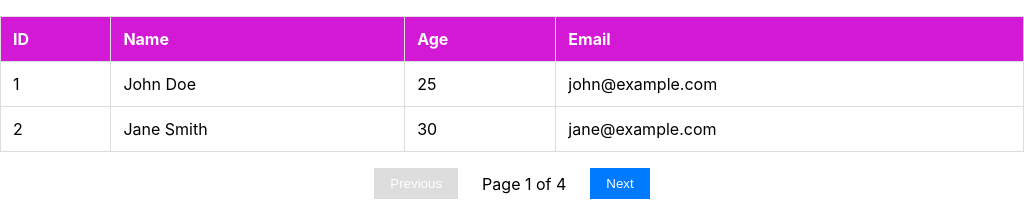
Scenario: handles pagination correctly
This screenshot has width=1024, height=216.
Check: the text "John Doe" is shown, box [111,62,405,106]
Check: the text "Jane Smith" is shown, box [111,106,405,152]
Click the button "Next".
click(620, 184)  # box [590,168,650,199]
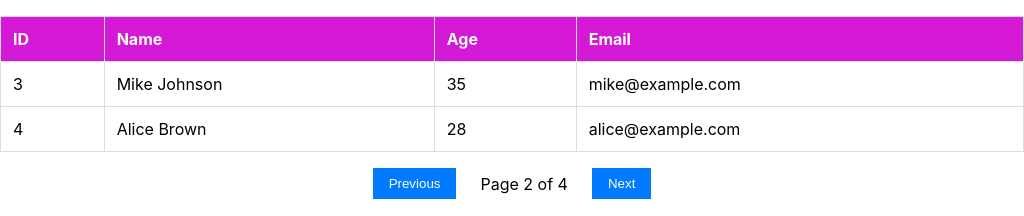
Check: the text "Mike Johnson" is shown, box [104,62,434,106]
Check: the text "Alice Brown" is shown, box [104,106,434,152]
